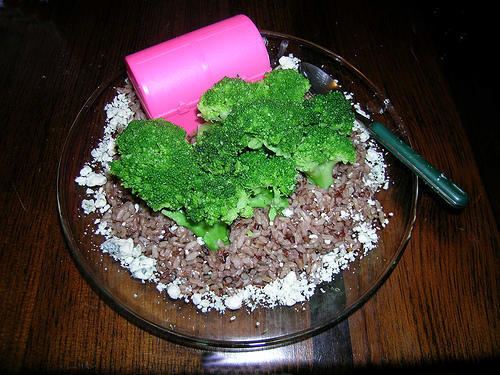broccoli: (107, 69, 359, 250)
